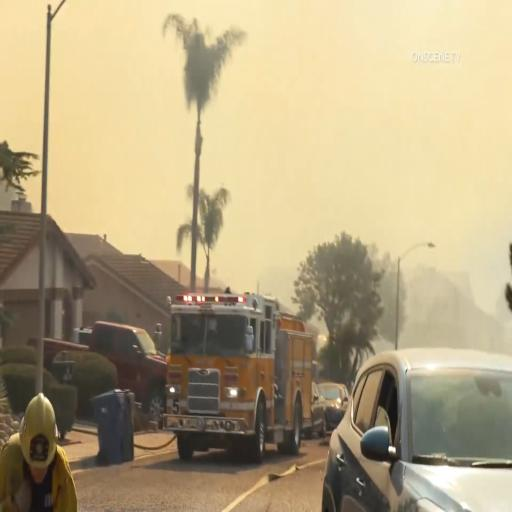smoke: (458, 176, 500, 266)
